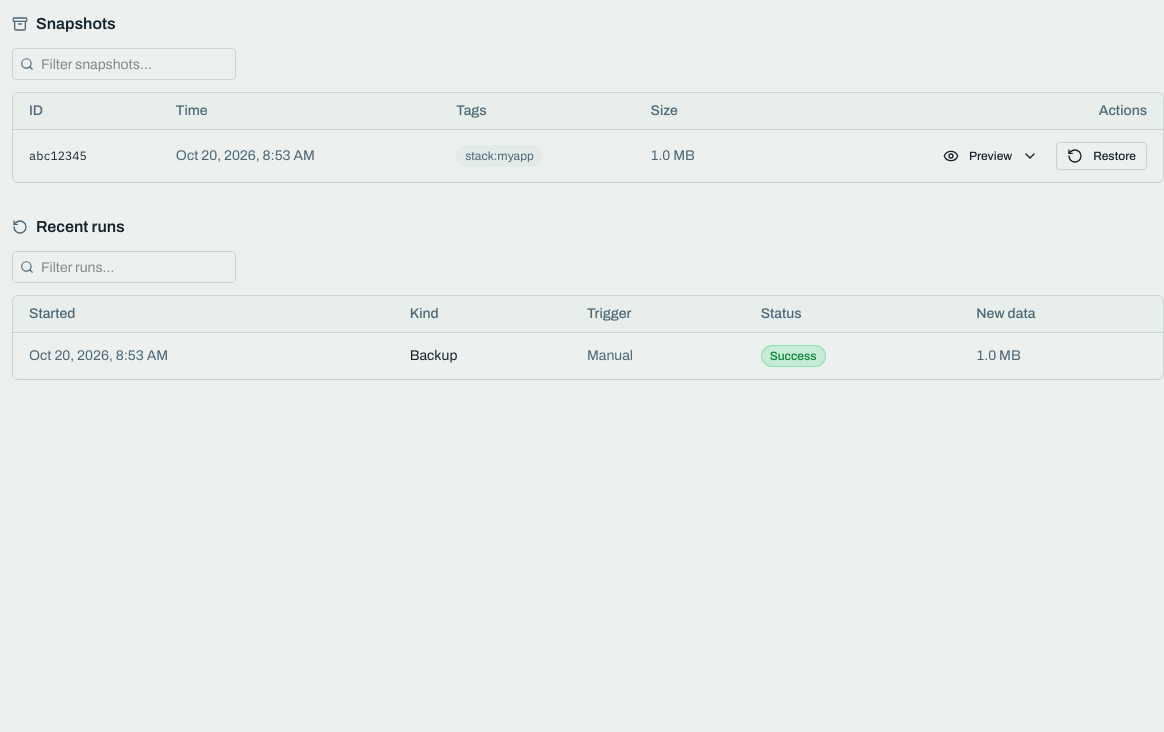
Test: BackupsTab — preview panel names the repository fault › names an unreachable repository instead of "Failed to load preview."
Click the button with aria-label "show preview" at point(991, 156), box [933,142,1048,170]
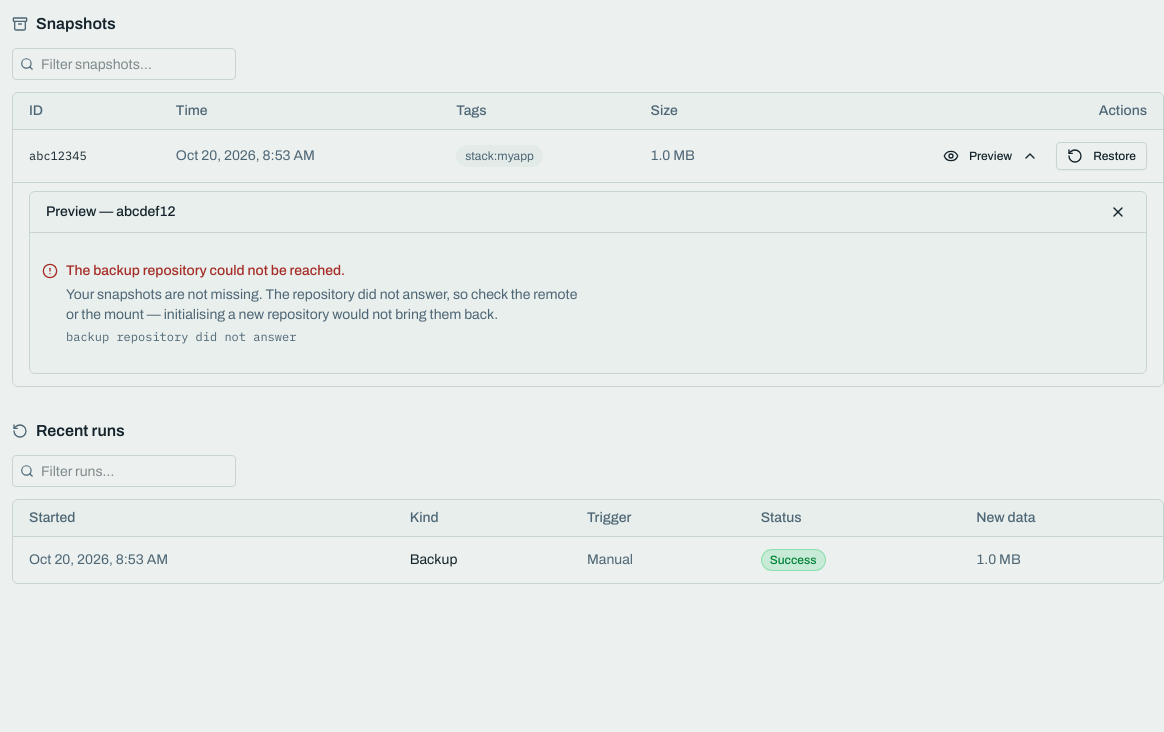
expect the text "The backup repository could not be reached." is shown: met, box [66,263,345,278]
expect the text "check the remote or the mount" is shown: met, box [66,287,577,322]
expect the text "backup repository did not answer" is shown: met, box [66,329,296,344]
